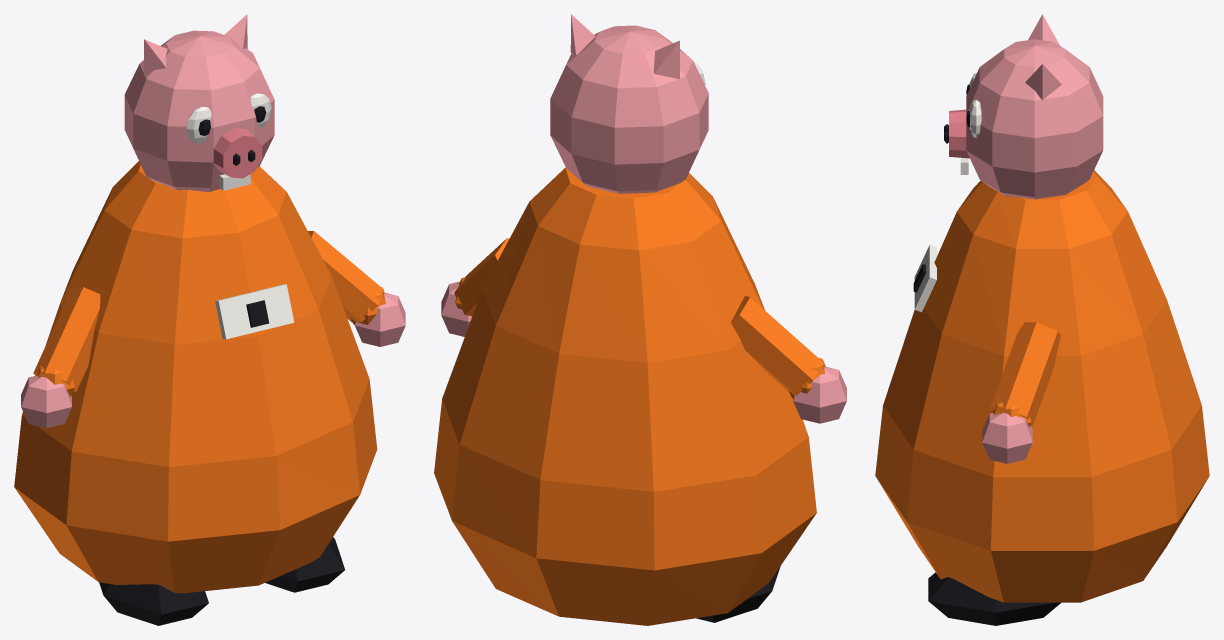
File: npc_chancho.glb
3 views of the same model, side by side, from view 1: azimuth 30°, elevation 25°; view 2: azimuth 150°, elevation 25°; view 3: azimuth 270°, elevation 25° (orthographic). The views are drawn at different scales.
Visible parts, largest first — view 1: body_jumpsuit, head_chancho_pink, arms_jumpsuit, legs_black, arms_chancho_pink, body_white, face_chancho_nose, face_white; view 2: body_jumpsuit, head_chancho_pink, arms_jumpsuit, arms_chancho_pink, legs_black; view 3: body_jumpsuit, head_chancho_pink, arms_jumpsuit, legs_black, arms_chancho_pink, body_white, face_chancho_nose.
Boxes of the visible parts, box(x1,y1,x2,y2) form: body_jumpsuit: box(14, 161, 377, 593); head_chancho_pink: box(124, 14, 274, 192); arms_jumpsuit: box(33, 231, 385, 397); legs_black: box(99, 537, 344, 625); arms_chancho_pink: box(21, 293, 405, 428); body_white: box(215, 284, 294, 339); face_chancho_nose: box(213, 128, 262, 178); face_white: box(186, 93, 271, 143); body_jumpsuit: box(434, 167, 816, 625); head_chancho_pink: box(550, 14, 708, 193); arms_jumpsuit: box(454, 238, 825, 398); arms_chancho_pink: box(441, 281, 846, 423); legs_black: box(696, 566, 780, 622); body_jumpsuit: box(875, 170, 1209, 602); head_chancho_pink: box(966, 14, 1103, 199); arms_jumpsuit: box(990, 322, 1060, 426); legs_black: box(928, 572, 1060, 625); arms_chancho_pink: box(982, 412, 1032, 463); body_white: box(914, 244, 936, 312); face_chancho_nose: box(949, 109, 969, 158).
Size of the model in its own units: 1.13 by 1.55 by 0.86.
